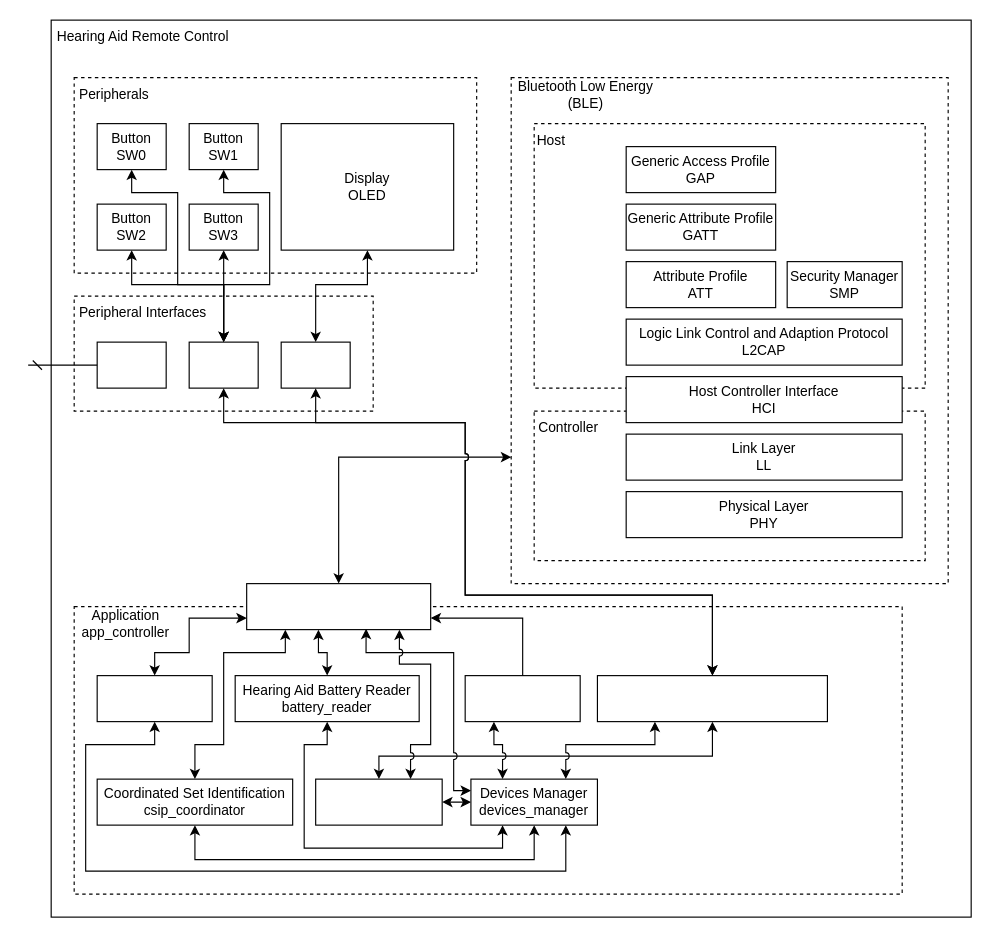
The diagram is 991 pixels wide and 949 high, and some of its shapes have lost their labels. Here are the shapes that lost their labels. From the top down, the centre of each, then its label:
At pixel 131 364: "UART".
At pixel 223 364: "GPIO".
At pixel 315 364: "I 2 C".
At pixel 338 606: "BLE Manager ble_manager".
At pixel 154 698: "Volume Control vcp_controller".
At pixel 522 698: "Hearing Access has_controller".
At pixel 711 698: "Peripheral Managers button_manager, display_manager".
At pixel 378 801: "Power Manager power_manager".
